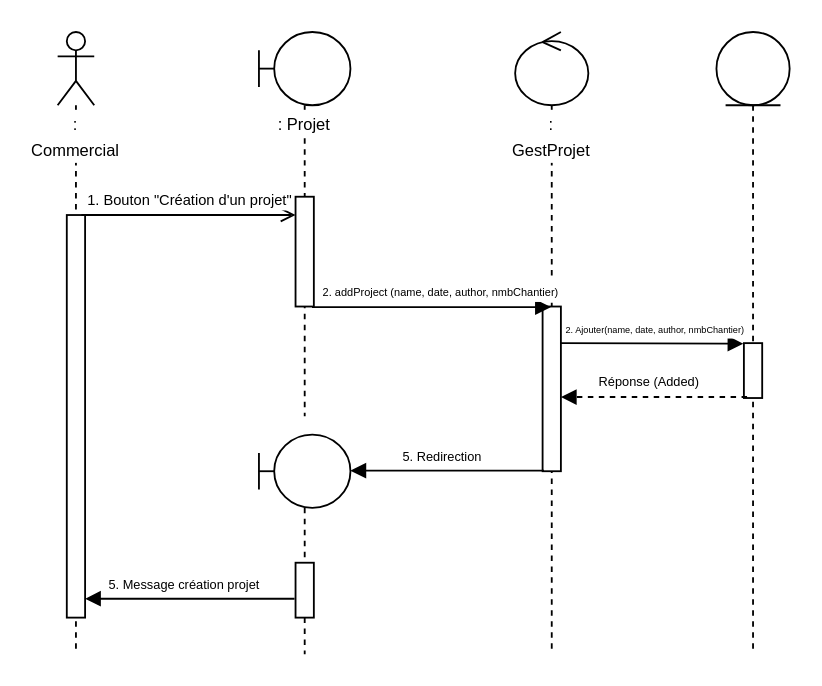
Image size: 822x686. Some labels were removed from this diagram. The box of each missing label's shape, as (x1, y1, x2, y2) in pixels:
: Chantier: (257, 433, 350, 654)
: SGBD: (715, 30, 790, 654)
